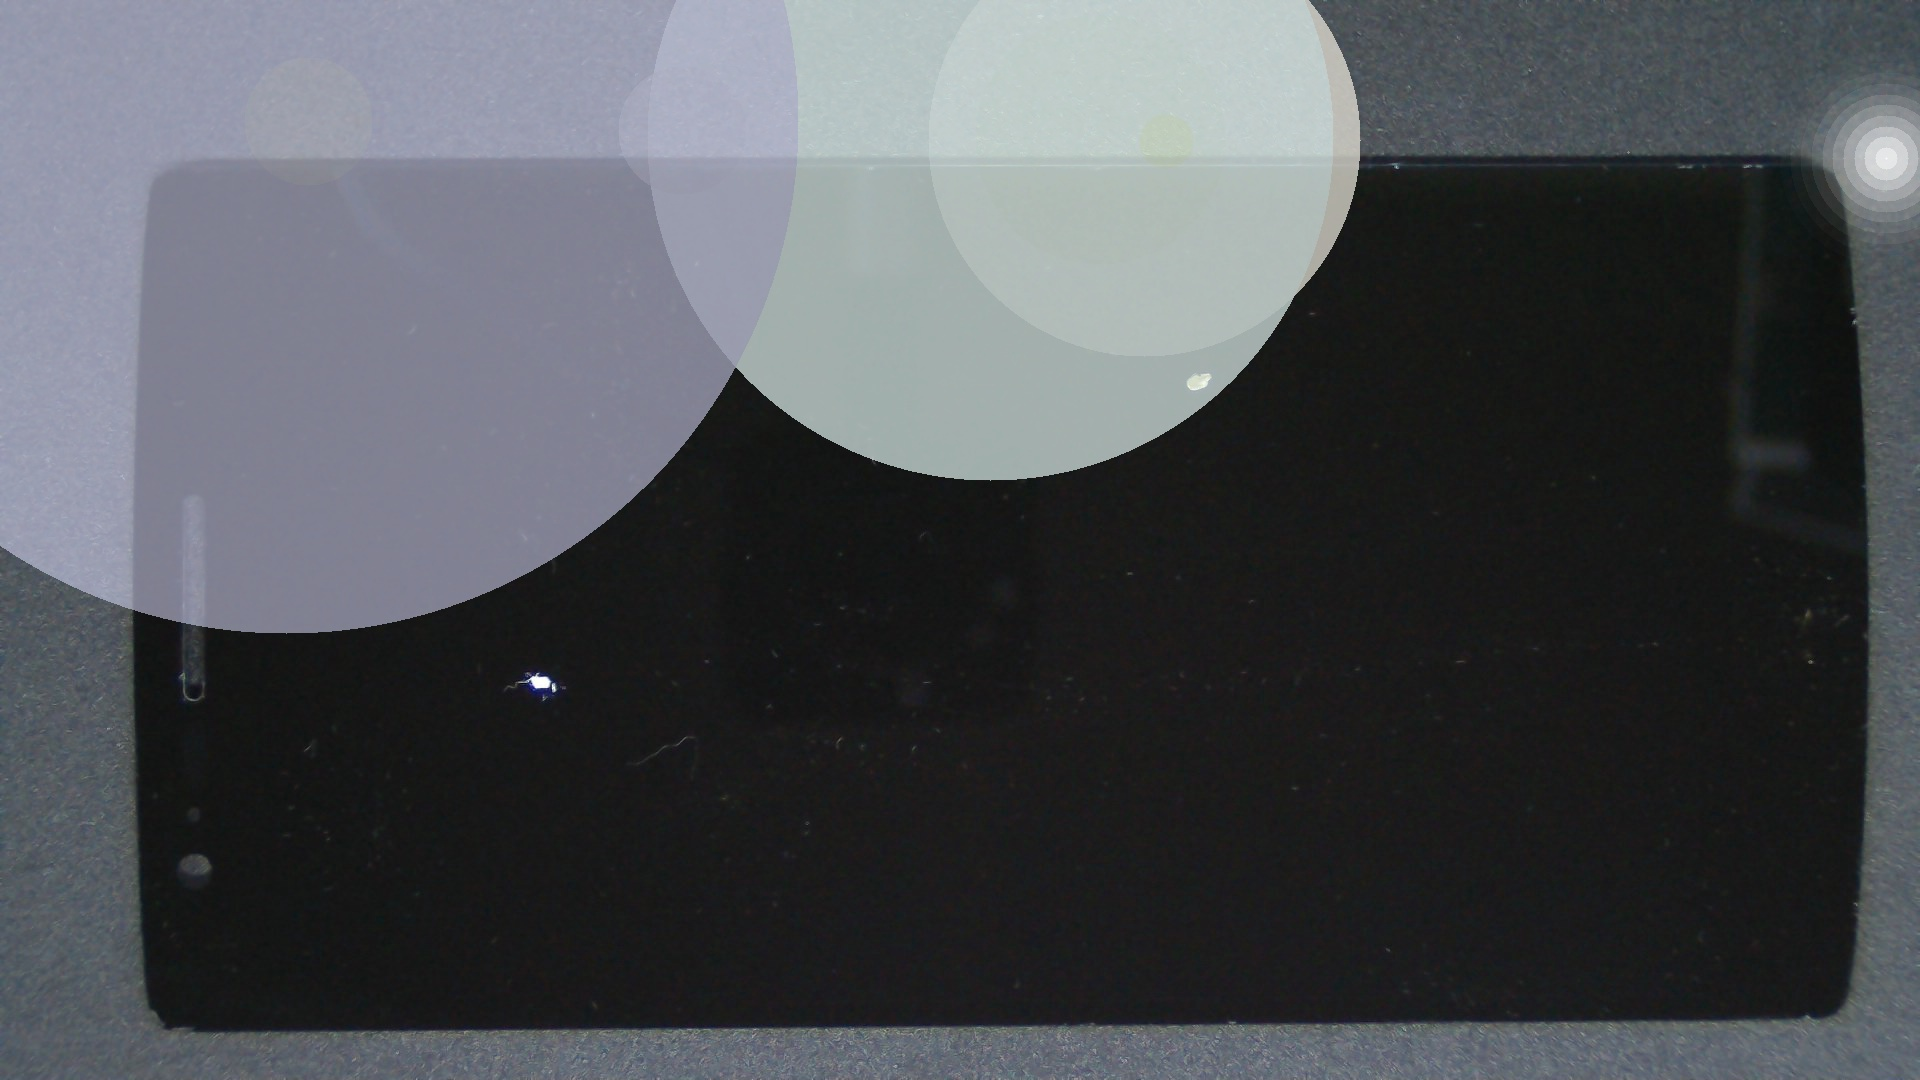oil: (600, 185, 1800, 556), (270, 335, 810, 1007)
